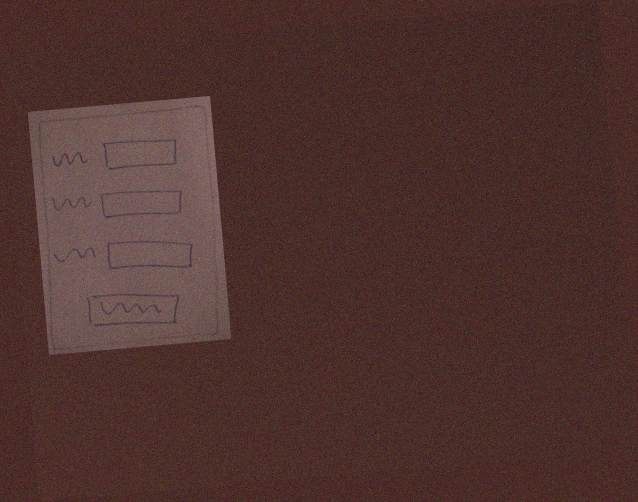text: (49, 241, 99, 267), (51, 191, 93, 215), (50, 147, 89, 171)
text_input: (101, 231, 197, 277), (97, 181, 185, 223), (98, 134, 183, 177)
